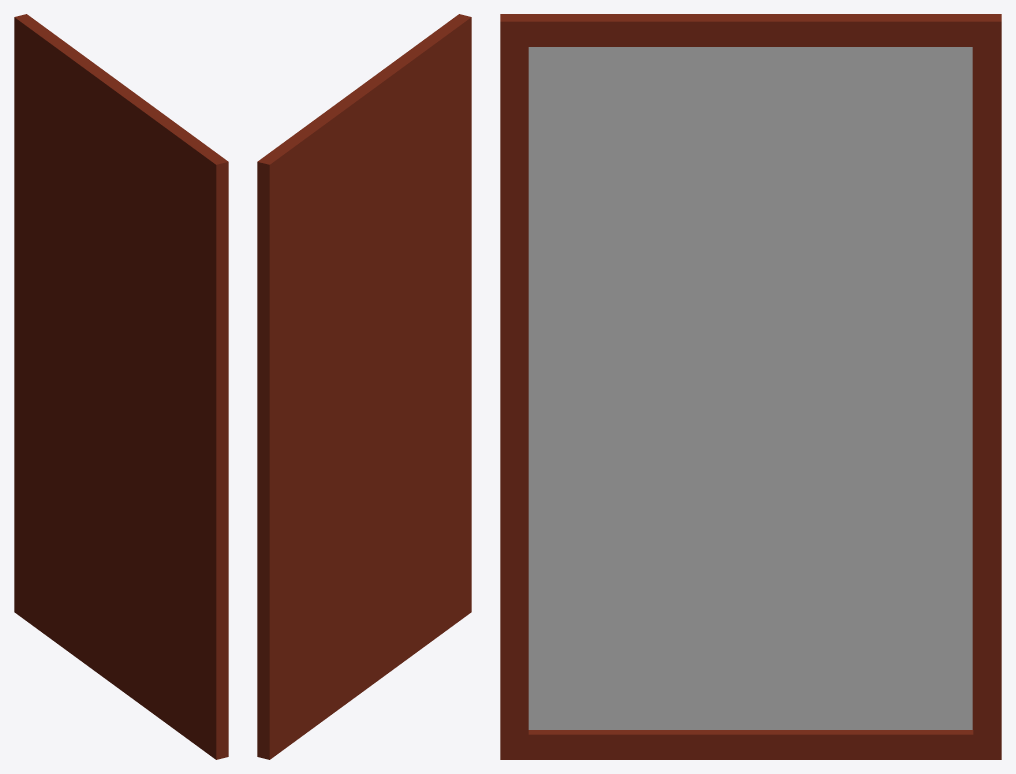
File: Poster.fbx
The picture shows the model from 3 angles, left to right: view 1: azimuth 30°, elevation 25°; view 2: azimuth 150°, elevation 25°; view 3: azimuth 270°, elevation 25°; orthographic projection. The views are drawn at different scales.
Parts seen in each view (by area): view 1: poster.003; view 2: poster.003; view 3: poster.003.
Boxes of the visible parts, x1,y1,x2,y2 form: poster.003: (14, 14, 228, 759); poster.003: (257, 14, 471, 759); poster.003: (500, 14, 1001, 759).
Bounding box in the file's own units: 200 × 325 × 7.17.
